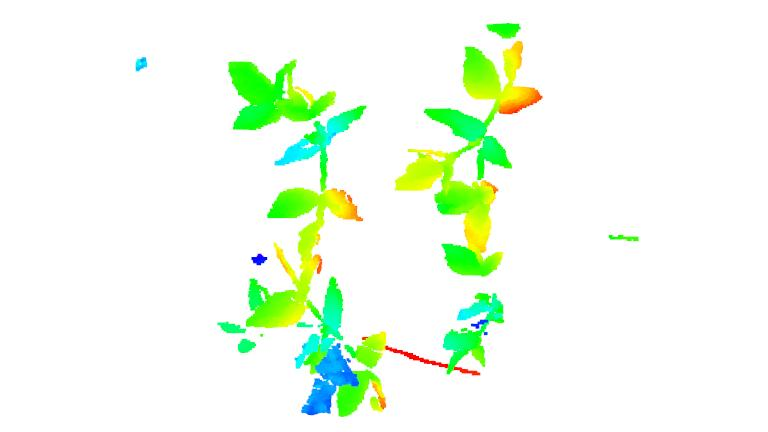mungbean: (391, 36, 547, 253), (220, 51, 369, 257), (248, 241, 391, 415), (432, 243, 509, 376)
